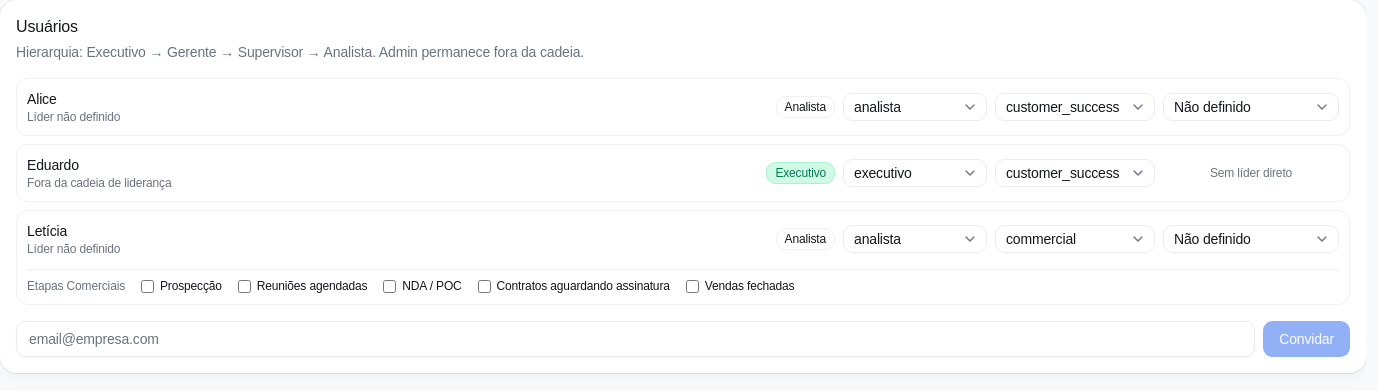
Test case: UsersManagement › explica quando não existe líder compatível sem exibir o valor técnico
The image size is (1378, 391).
Click the dropdown named "Líder de Alice". click: (1251, 107)
box: top-left (1163, 93), bottom-right (1339, 121)
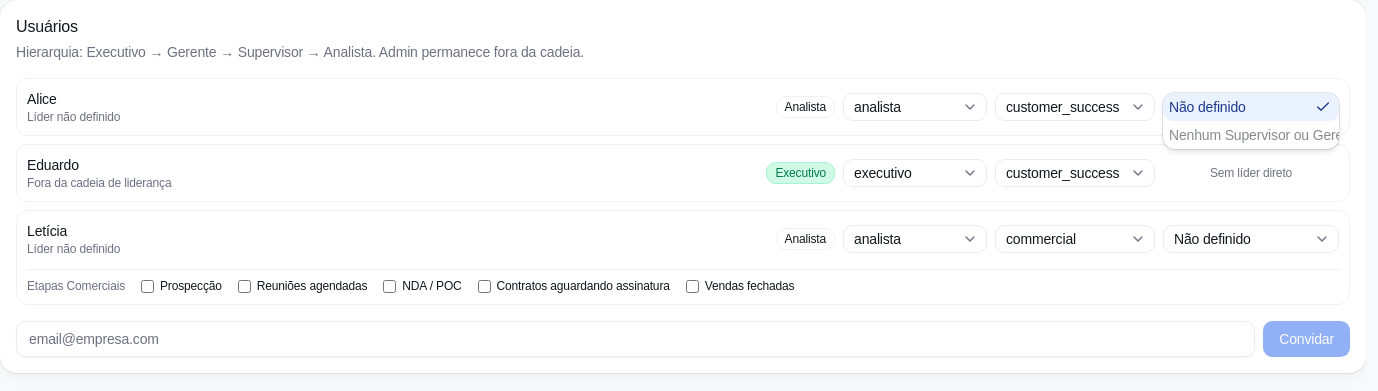
Expected: the option "Nenhum Supervisor ou Gerente disponível" is shown, top-left (1169, 127), bottom-right (1339, 143)
